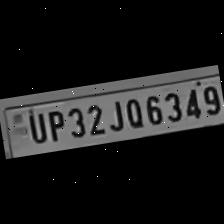2: (82, 100, 108, 138)
3: (160, 88, 184, 124), (64, 102, 86, 140)
4: (178, 84, 202, 120)
6: (140, 91, 164, 126)
9: (198, 82, 223, 118)
J: (103, 96, 126, 133)
P: (44, 106, 68, 144)
Q: (122, 94, 146, 131)
U: (23, 108, 48, 146)
